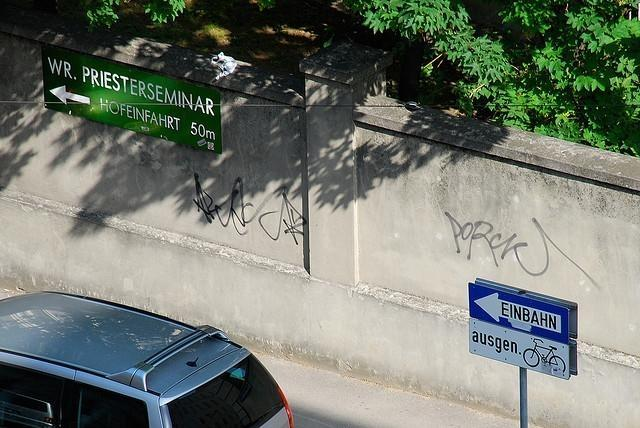car: (0, 286, 296, 423)
